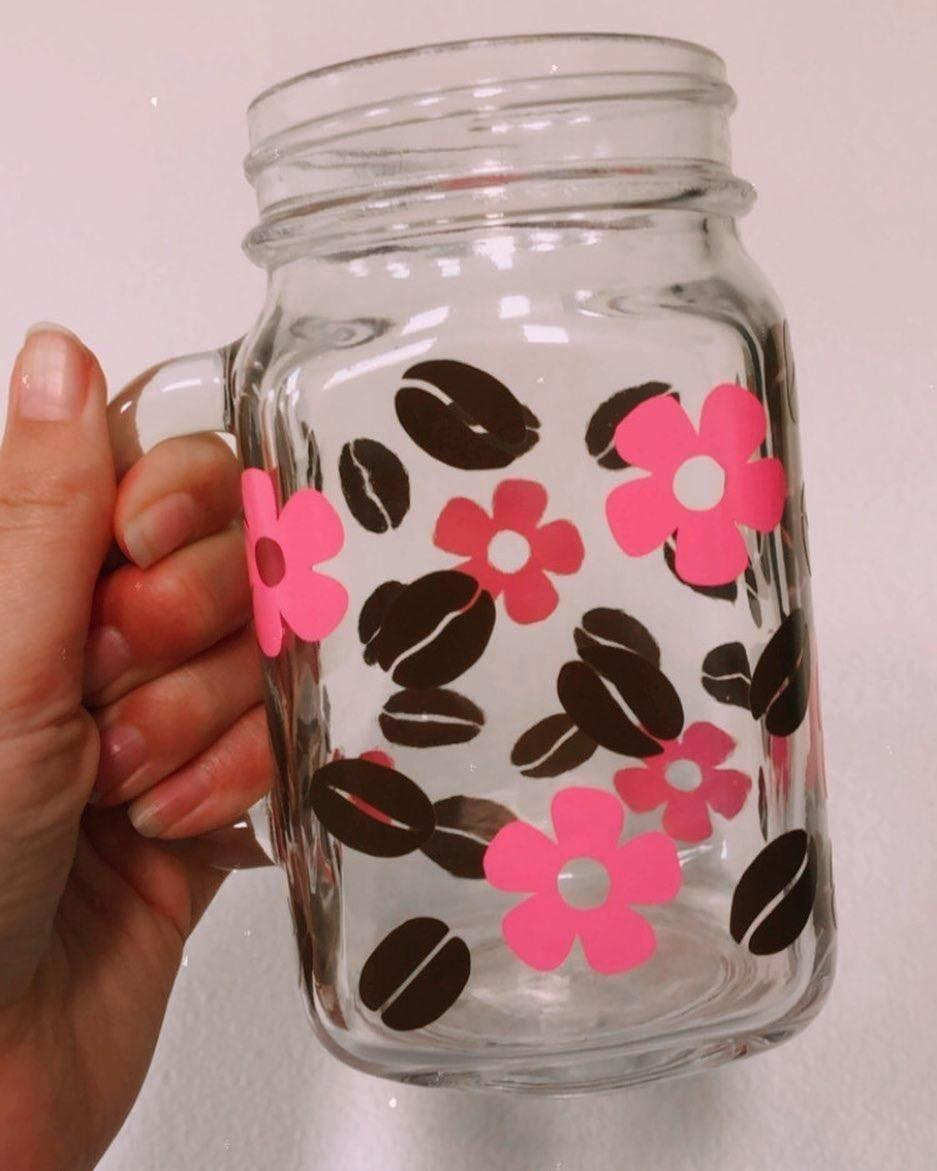glass-mug: (67, 23, 866, 1119)
